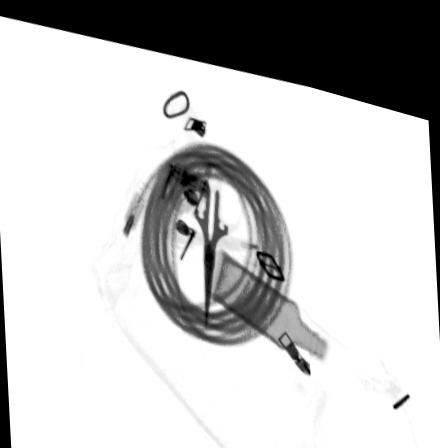Scissors: (182, 136, 245, 317)
